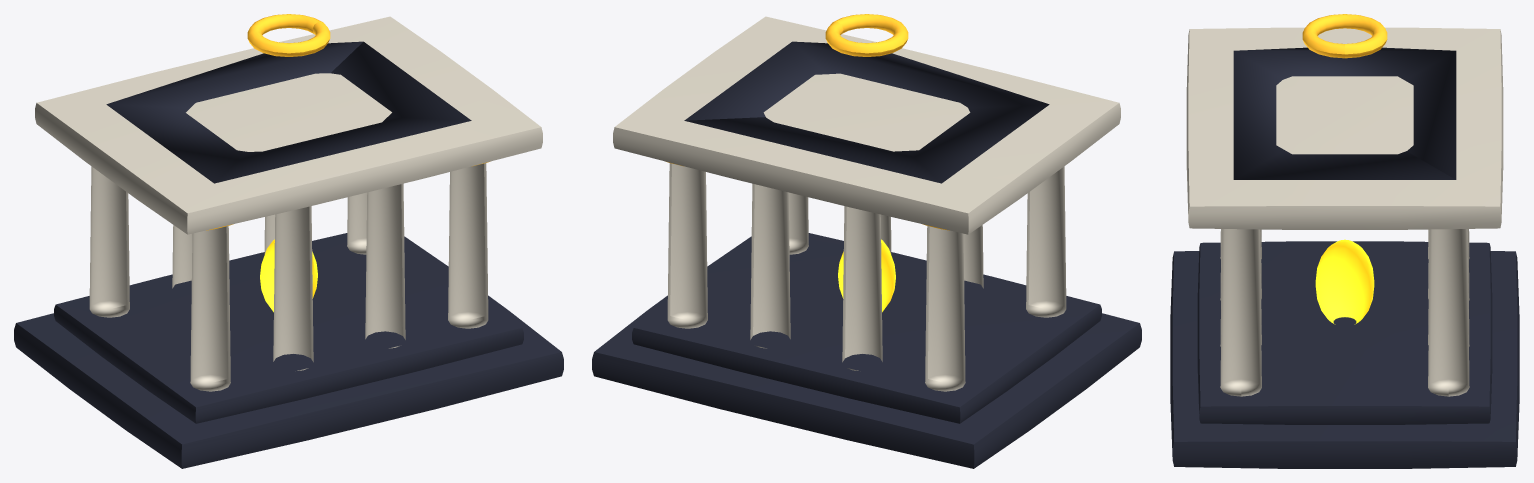
The model's file is grand_temple.glb.
3 renders of one model, left to right at view 1: azimuth 30°, elevation 25°; view 2: azimuth 150°, elevation 25°; view 3: azimuth 270°, elevation 25°, orthographic. The views are drawn at different scales.
Visible parts, largest first — view 1: GrandTemple; view 2: GrandTemple; view 3: GrandTemple.
Boxes of the visible parts, x1,y1,x2,y2 form: GrandTemple: (14, 14, 563, 468); GrandTemple: (592, 14, 1141, 468); GrandTemple: (1170, 14, 1519, 468).
Size of the model in its own units: 8.4 by 6.99 by 6.4.
